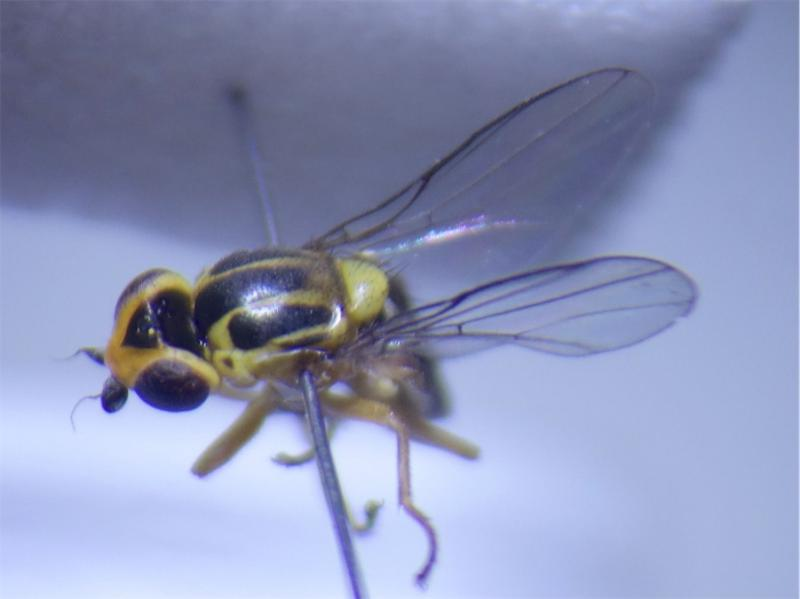Chloropidae: (58, 63, 708, 591)
